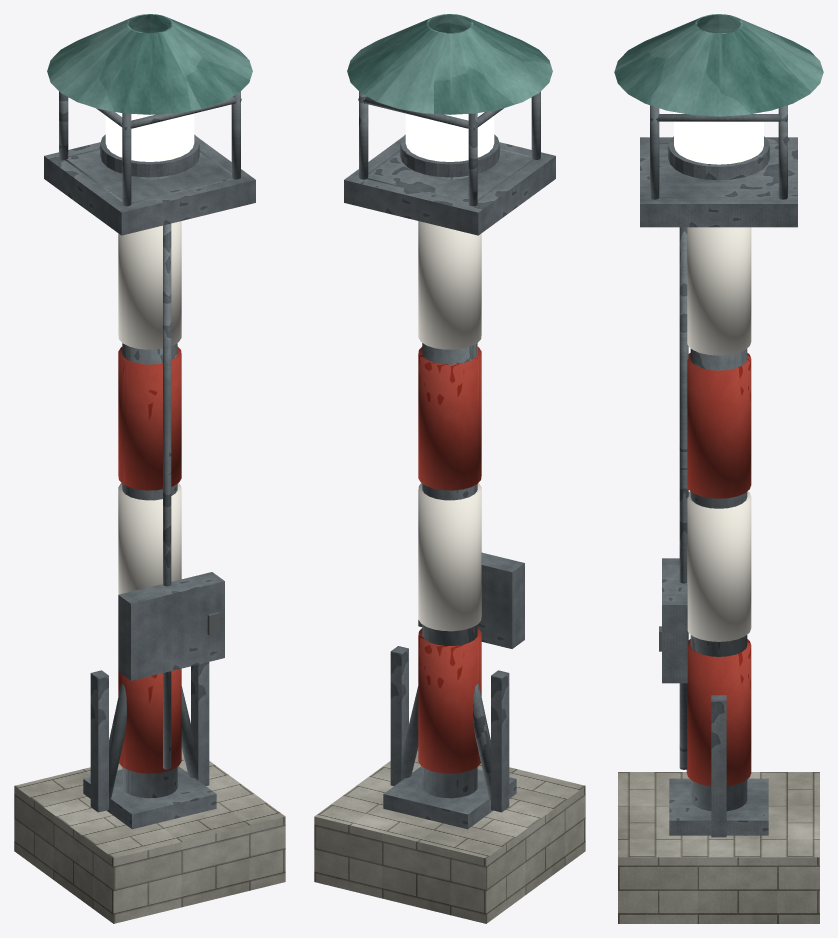
The model's file is PZ_CoastalBeacon_Standalone.glb.
3 views of the same model, side by side, from view 1: azimuth 30°, elevation 25°; view 2: azimuth 150°, elevation 25°; view 3: azimuth 270°, elevation 25° (orthographic).
Parts seen in each view (by area): view 1: BEACON_ConcreteFooting, BEACON_RainHood, BEACON_TopInstrumentPlate, BEACON_MaintenanceBox, BEACON_SafetyColourSleeve_2, BEACON_SafetyColourSleeve_3, BEACON_SafetyColourSleeve_1, BEACON_SafetyColourSleeve_0, BEACON_Conduit, BEACON_AnchorPlate, BEACON_GlowLens, BEACON_MainMast (+9 smaller); view 2: BEACON_ConcreteFooting, BEACON_RainHood, BEACON_TopInstrumentPlate, BEACON_SafetyColourSleeve_1, BEACON_SafetyColourSleeve_2, BEACON_SafetyColourSleeve_0, BEACON_SafetyColourSleeve_3, BEACON_MaintenanceBox, BEACON_MainMast, BEACON_AnchorPlate, BEACON_GlowLens, BEACON_Brace_L (+8 smaller); view 3: BEACON_ConcreteFooting, BEACON_RainHood, BEACON_TopInstrumentPlate, BEACON_SafetyColourSleeve_1, BEACON_SafetyColourSleeve_2, BEACON_SafetyColourSleeve_3, BEACON_SafetyColourSleeve_0, BEACON_Conduit, BEACON_AnchorPlate, BEACON_GlowLens, BEACON_MainMast, BEACON_MaintenanceBox (+5 smaller).
Boxes of the visible parts, x1=… form: BEACON_ConcreteFooting: x1=14, y1=748, x2=285, y2=923; BEACON_RainHood: x1=47, y1=14, x2=252, y2=114; BEACON_TopInstrumentPlate: x1=44, y1=137, x2=255, y2=235; BEACON_MaintenanceBox: x1=118, y1=572, x2=224, y2=680; BEACON_SafetyColourSleeve_2: x1=118, y1=346, x2=181, y2=490; BEACON_SafetyColourSleeve_3: x1=118, y1=221, x2=181, y2=349; BEACON_SafetyColourSleeve_1: x1=118, y1=483, x2=181, y2=594; BEACON_SafetyColourSleeve_0: x1=118, y1=668, x2=181, y2=773; BEACON_Conduit: x1=163, y1=223, x2=171, y2=769; BEACON_AnchorPlate: x1=83, y1=766, x2=216, y2=829; BEACON_GlowLens: x1=105, y1=112, x2=194, y2=161; BEACON_MainMast: x1=122, y1=175, x2=177, y2=798; BEACON_ConcreteFooting: x1=314, y1=748, x2=585, y2=923; BEACON_RainHood: x1=347, y1=14, x2=552, y2=114; BEACON_TopInstrumentPlate: x1=344, y1=137, x2=555, y2=235; BEACON_SafetyColourSleeve_1: x1=418, y1=483, x2=481, y2=631; BEACON_SafetyColourSleeve_2: x1=418, y1=346, x2=481, y2=490; BEACON_SafetyColourSleeve_0: x1=418, y1=628, x2=481, y2=773; BEACON_SafetyColourSleeve_3: x1=418, y1=221, x2=481, y2=349; BEACON_MaintenanceBox: x1=418, y1=552, x2=524, y2=648; BEACON_MainMast: x1=422, y1=175, x2=477, y2=798; BEACON_AnchorPlate: x1=383, y1=766, x2=516, y2=829; BEACON_GlowLens: x1=405, y1=112, x2=494, y2=161; BEACON_Brace_L: x1=491, y1=670, x2=509, y2=812; BEACON_ConcreteFooting: x1=618, y1=772, x2=819, y2=923; BEACON_RainHood: x1=614, y1=14, x2=823, y2=116; BEACON_TopInstrumentPlate: x1=640, y1=137, x2=797, y2=227; BEACON_SafetyColourSleeve_1: x1=687, y1=491, x2=751, y2=641; BEACON_SafetyColourSleeve_2: x1=687, y1=353, x2=751, y2=498; BEACON_SafetyColourSleeve_3: x1=687, y1=227, x2=751, y2=355; BEACON_SafetyColourSleeve_0: x1=686, y1=639, x2=751, y2=786; BEACON_Conduit: x1=679, y1=227, x2=688, y2=769; BEACON_AnchorPlate: x1=669, y1=778, x2=768, y2=835; BEACON_GlowLens: x1=674, y1=112, x2=763, y2=164; BEACON_MainMast: x1=690, y1=178, x2=747, y2=811; BEACON_MaintenanceBox: x1=662, y1=558, x2=687, y2=683.
Size of the model in its own units: 1.14 by 5.15 by 1.14.
Materials: 7 (4 with a texture image).
